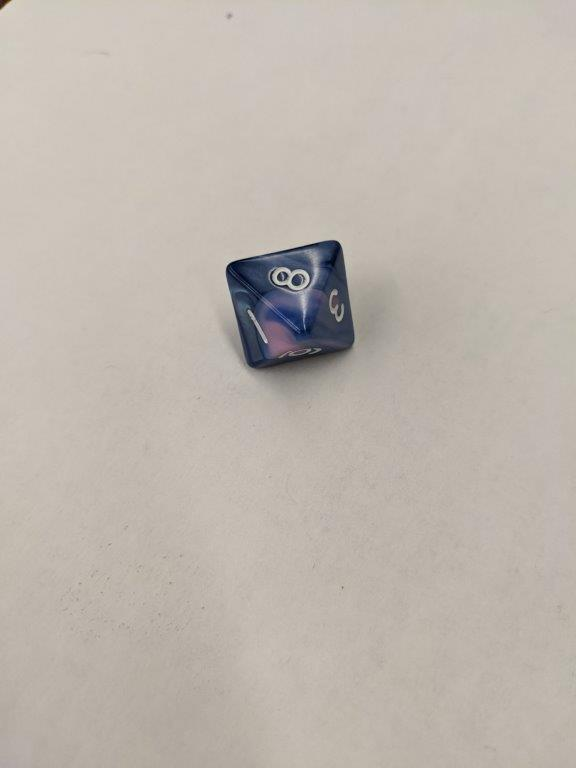d8-8: (227, 238, 356, 372)
